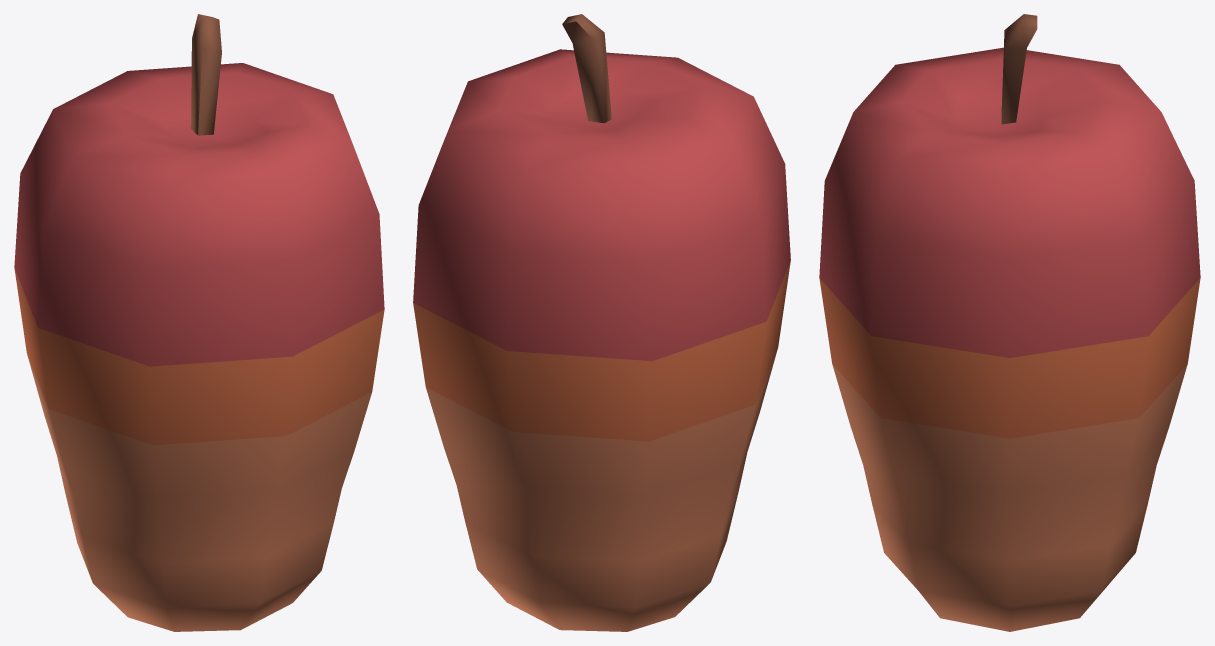
Rendered from green_11.glb.
3 renders of one model, left to right at view 1: azimuth 30°, elevation 25°; view 2: azimuth 150°, elevation 25°; view 3: azimuth 270°, elevation 25°, orthographic. The views are drawn at different scales.
Visible parts, largest first — view 1: green_11; view 2: green_11; view 3: green_11.
Boxes of the visible parts, <box> form: green_11: <box>14,14,384,631</box>; green_11: <box>413,14,790,631</box>; green_11: <box>819,14,1200,631</box>.
Size of the model in its own units: 0.1413 by 0.2471 by 0.1413.
Materials: 1 (1 with a texture image).
